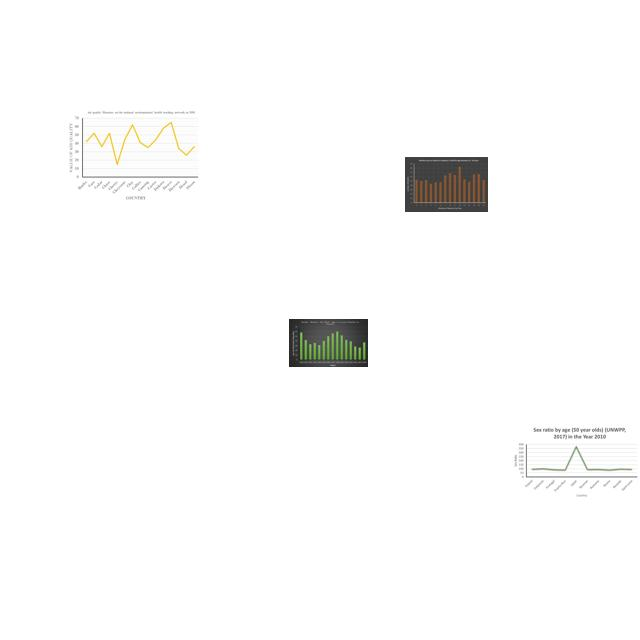Graph: (66, 108, 201, 202), (511, 425, 640, 498), (405, 157, 488, 212), (289, 319, 368, 367)
